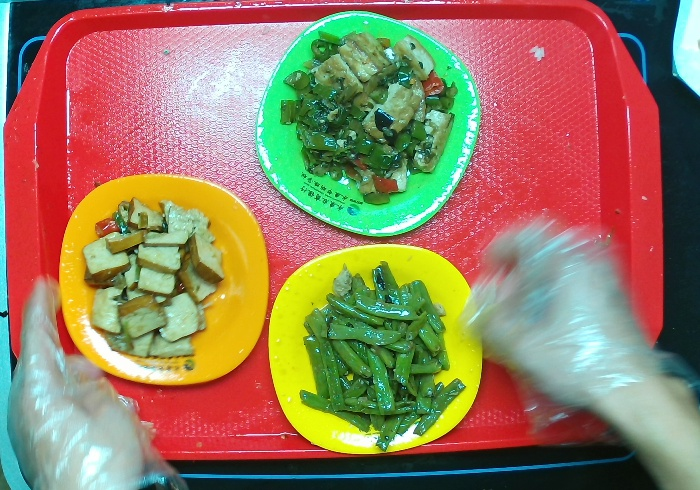YKMZ-Huang_Se_Fang_Die: (262, 240, 488, 459)
YKMZ-Ju_Se_Fang_Die: (54, 168, 275, 393)
YKMZ-Lv_Se_Fang_Die: (244, 2, 487, 243)
